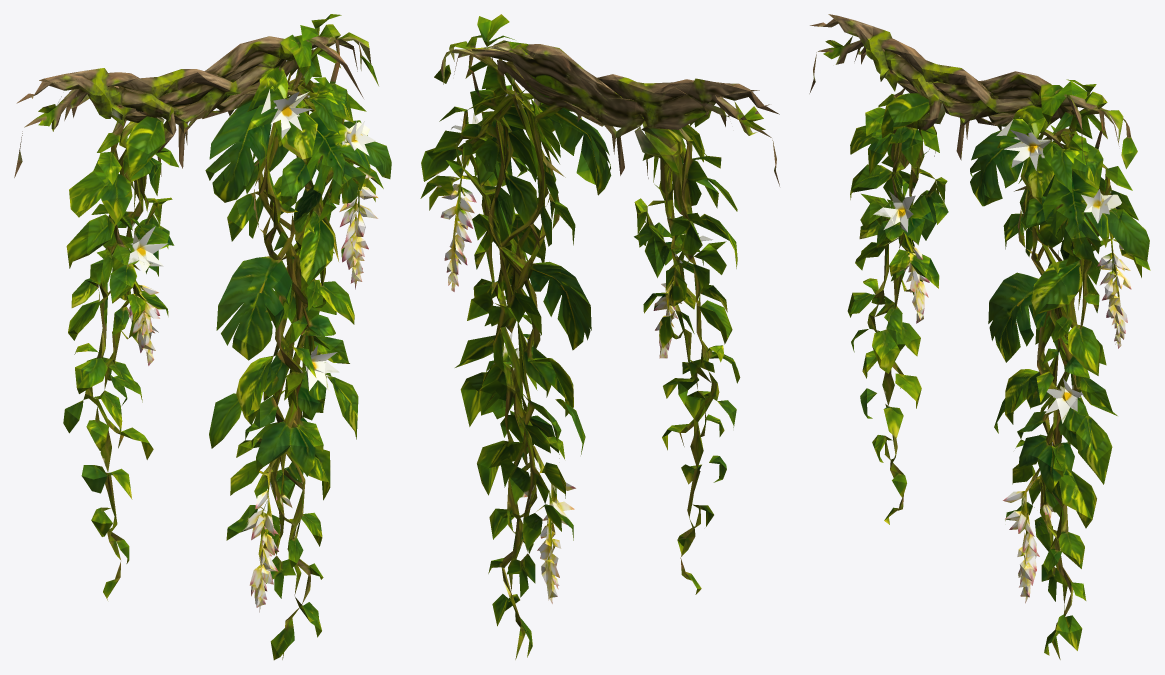
The model's file is cliff_vine_2.glb.
3 renders of one model, left to right at view 1: azimuth 30°, elevation 25°; view 2: azimuth 150°, elevation 25°; view 3: azimuth 330°, elevation 25°, orthographic. The views are drawn at different scales.
Visible parts, largest first — view 1: output_unwrapped; view 2: output_unwrapped; view 3: output_unwrapped.
Part boxes in pixels (box(x1,y1,x2,y2)): output_unwrapped: box(14, 14, 391, 660); output_unwrapped: box(420, 14, 779, 659); output_unwrapped: box(809, 14, 1150, 659).
Size of the model in its own units: 1.15 by 1.9 by 0.1814.
Materials: 1 (1 with a texture image).
